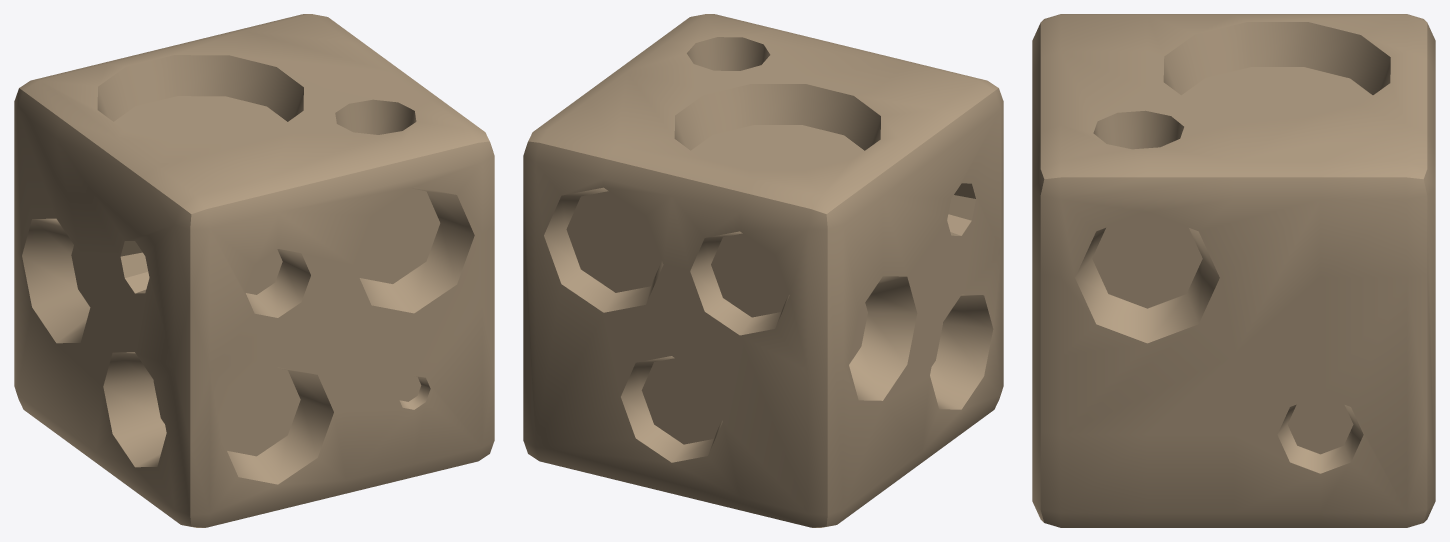
Rendered from quaternius-cube-world-block-cheese.glb.
3 views of the same model, side by side, from view 1: azimuth 30°, elevation 25°; view 2: azimuth 150°, elevation 25°; view 3: azimuth 270°, elevation 25° (orthographic). The views are drawn at different scales.
Visible parts, largest first — view 1: Block_Cheese; view 2: Block_Cheese; view 3: Block_Cheese.
Boxes of the visible parts, x1,y1,x2,y2 form: Block_Cheese: (14, 14, 494, 527); Block_Cheese: (523, 14, 1003, 527); Block_Cheese: (1032, 14, 1435, 527).
Size of the model in its own units: 1.87 by 1.87 by 1.87.
1 material, 1 textured.
